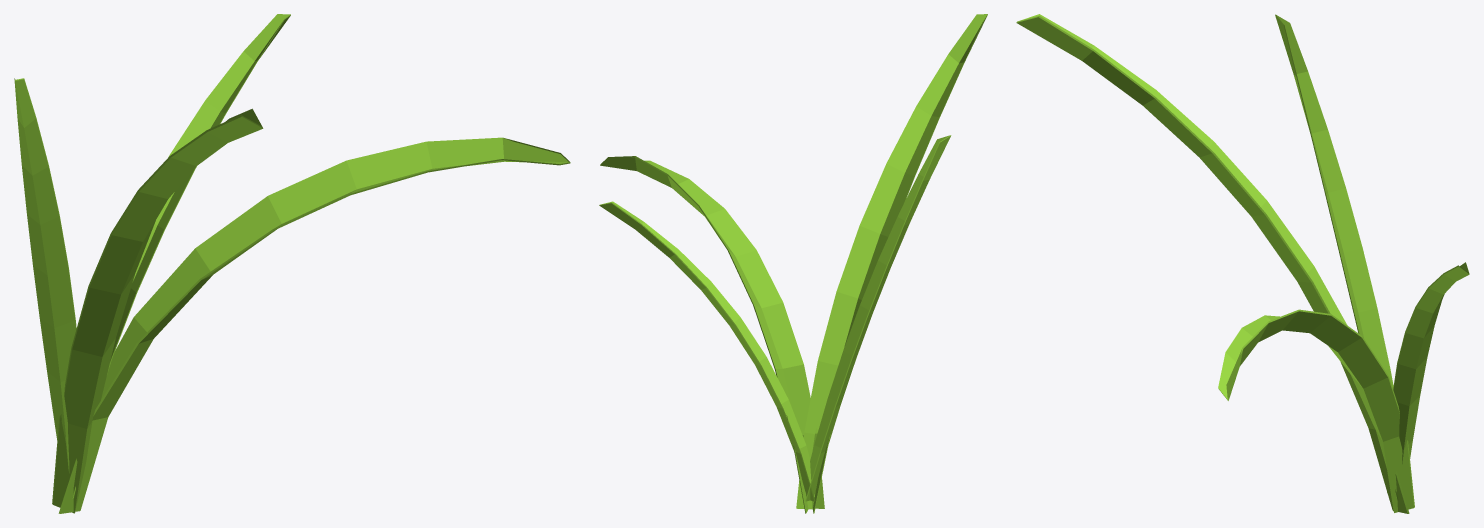
File: Grass_002.FBX
3 renders of one model, left to right at view 1: azimuth 30°, elevation 25°; view 2: azimuth 150°, elevation 25°; view 3: azimuth 270°, elevation 25°, orthographic. The views are drawn at different scales.
Parts seen in each view (by area): view 1: Grass_002; view 2: Grass_002; view 3: Grass_002.
Part boxes in pixels (x1,y1,x2,y2): Grass_002: (14,14,570,513); Grass_002: (599,14,987,513); Grass_002: (1016,14,1469,513).
Size of the model in its own units: 678 by 689 by 586.
